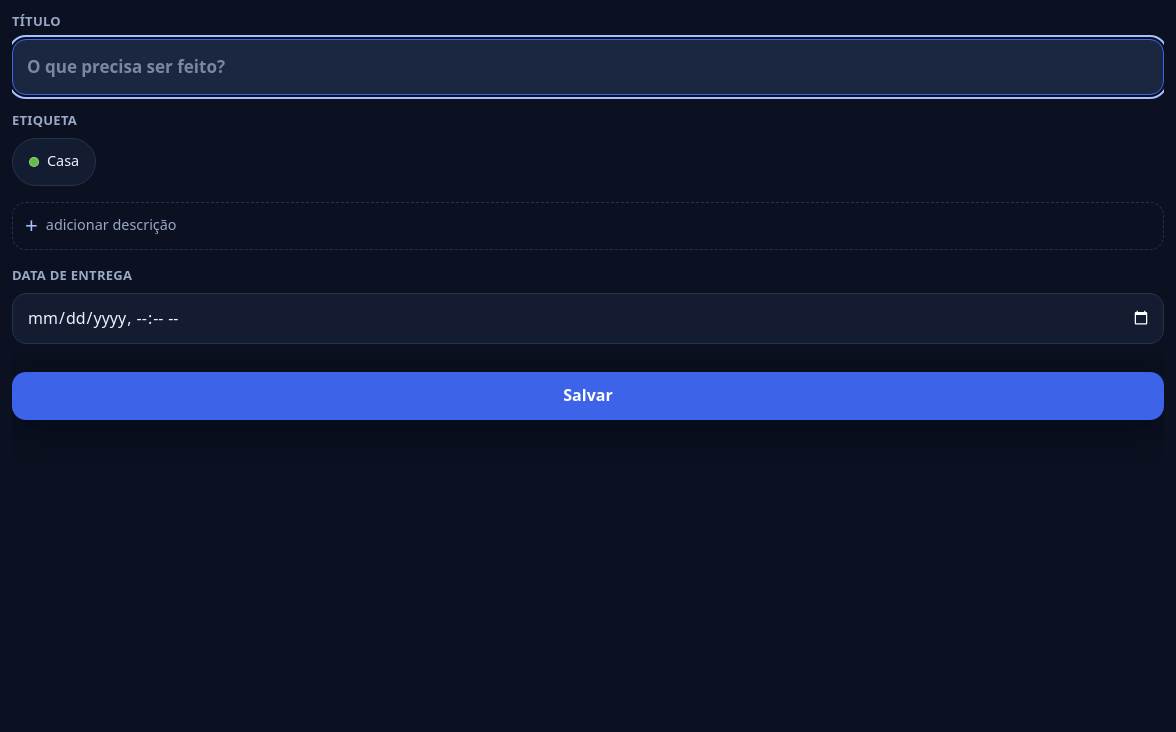
Scenario: CardForm › opens the description field on demand
This screenshot has width=1176, height=732.
Click the button "+ adicionar descrição": [111, 225] box [12,202,1164,250]
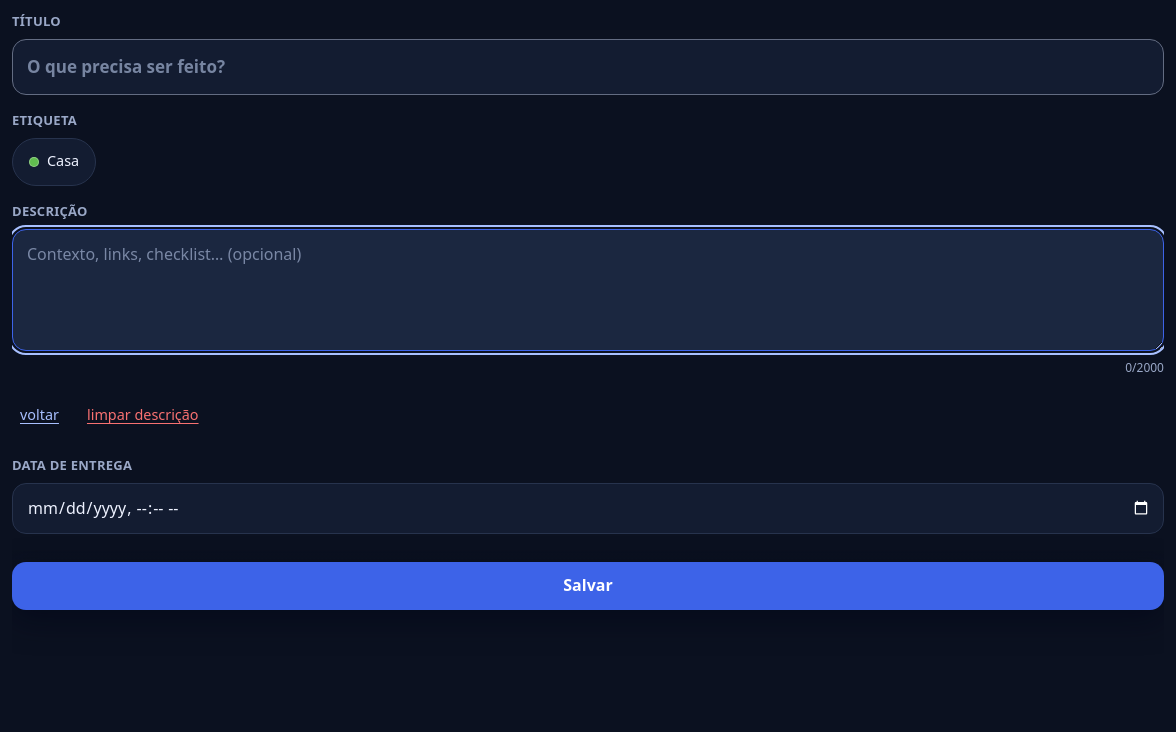
Now the text box labelled "Descrição" is shown, box [12,228,1164,350]
